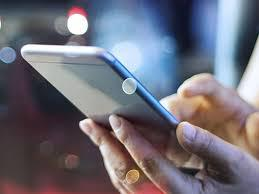Hand: (70, 121, 259, 194), (165, 76, 259, 148)
Smartphone: (23, 43, 184, 134)
